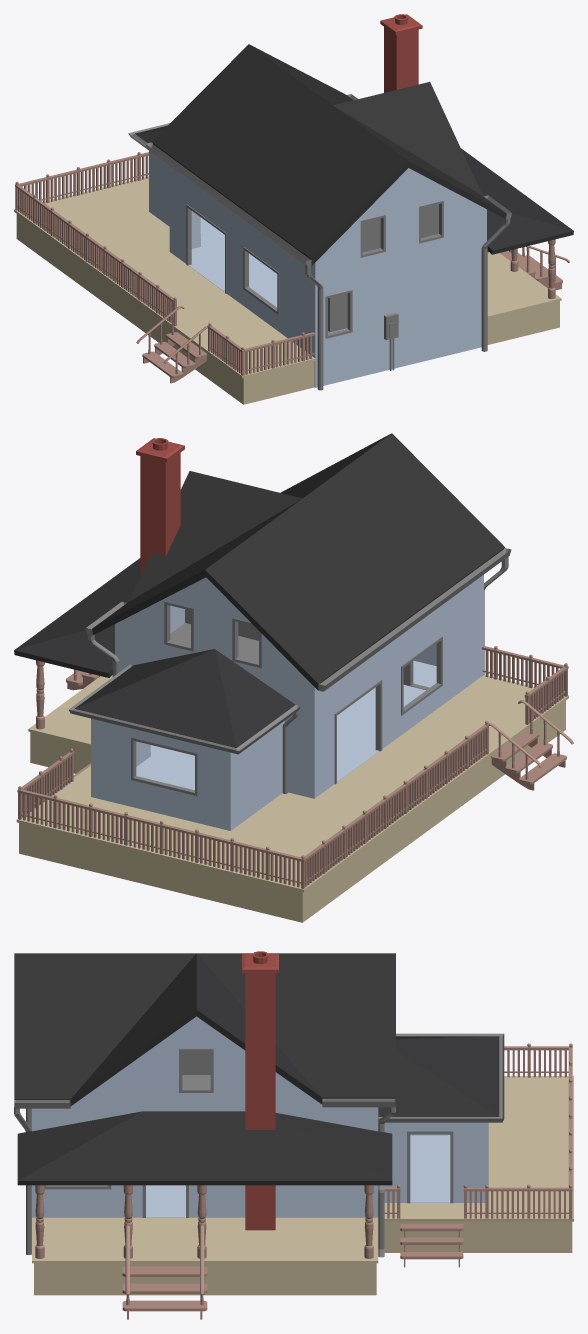
The model's file is House003.fbx.
3 views of the same model, one above another, from view 1: azimuth 30°, elevation 25°; view 2: azimuth 150°, elevation 25°; view 3: azimuth 270°, elevation 25° (orthographic). The views are drawn at different scales.
Visible parts, largest first — view 1: Porch; view 2: Porch; view 3: Porch.
Part boxes in pixels (bbox=[...]): Porch: bbox=[14, 14, 573, 404]; Porch: bbox=[14, 433, 573, 922]; Porch: bbox=[14, 951, 573, 1319].
Size of the model in its own units: 3729 by 2255 by 3725.
